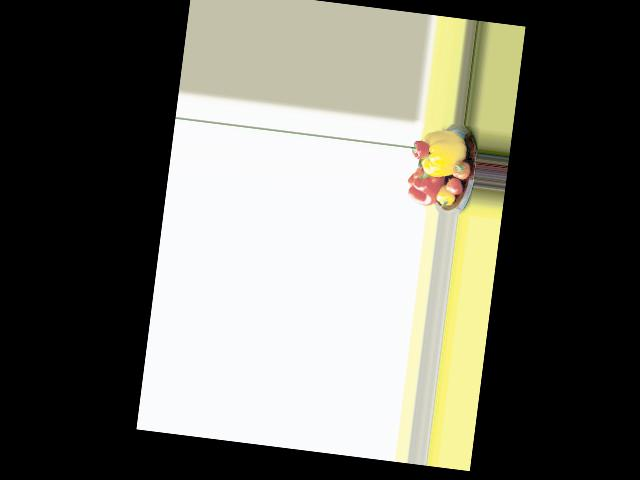bell_pepper: (434, 186, 455, 208)
